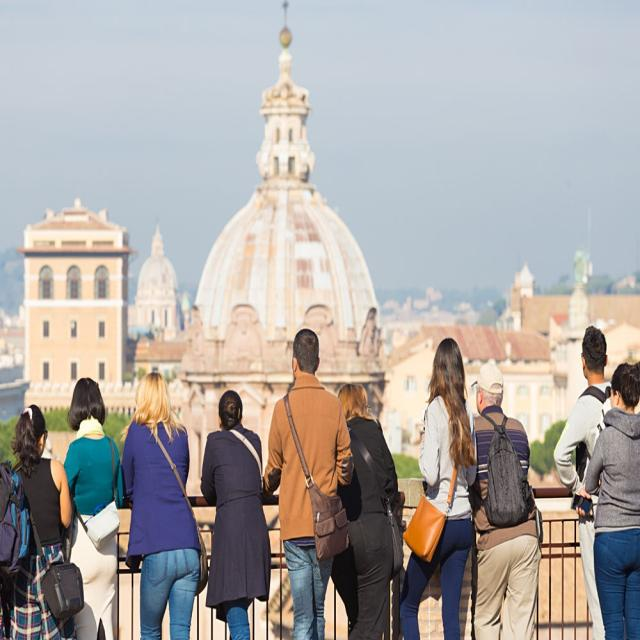body: (262, 327, 354, 640), (397, 335, 480, 639), (120, 368, 209, 640), (465, 361, 544, 639), (552, 324, 612, 640), (6, 403, 85, 640), (198, 389, 272, 639), (335, 382, 406, 640), (61, 375, 125, 640), (582, 357, 640, 639)
